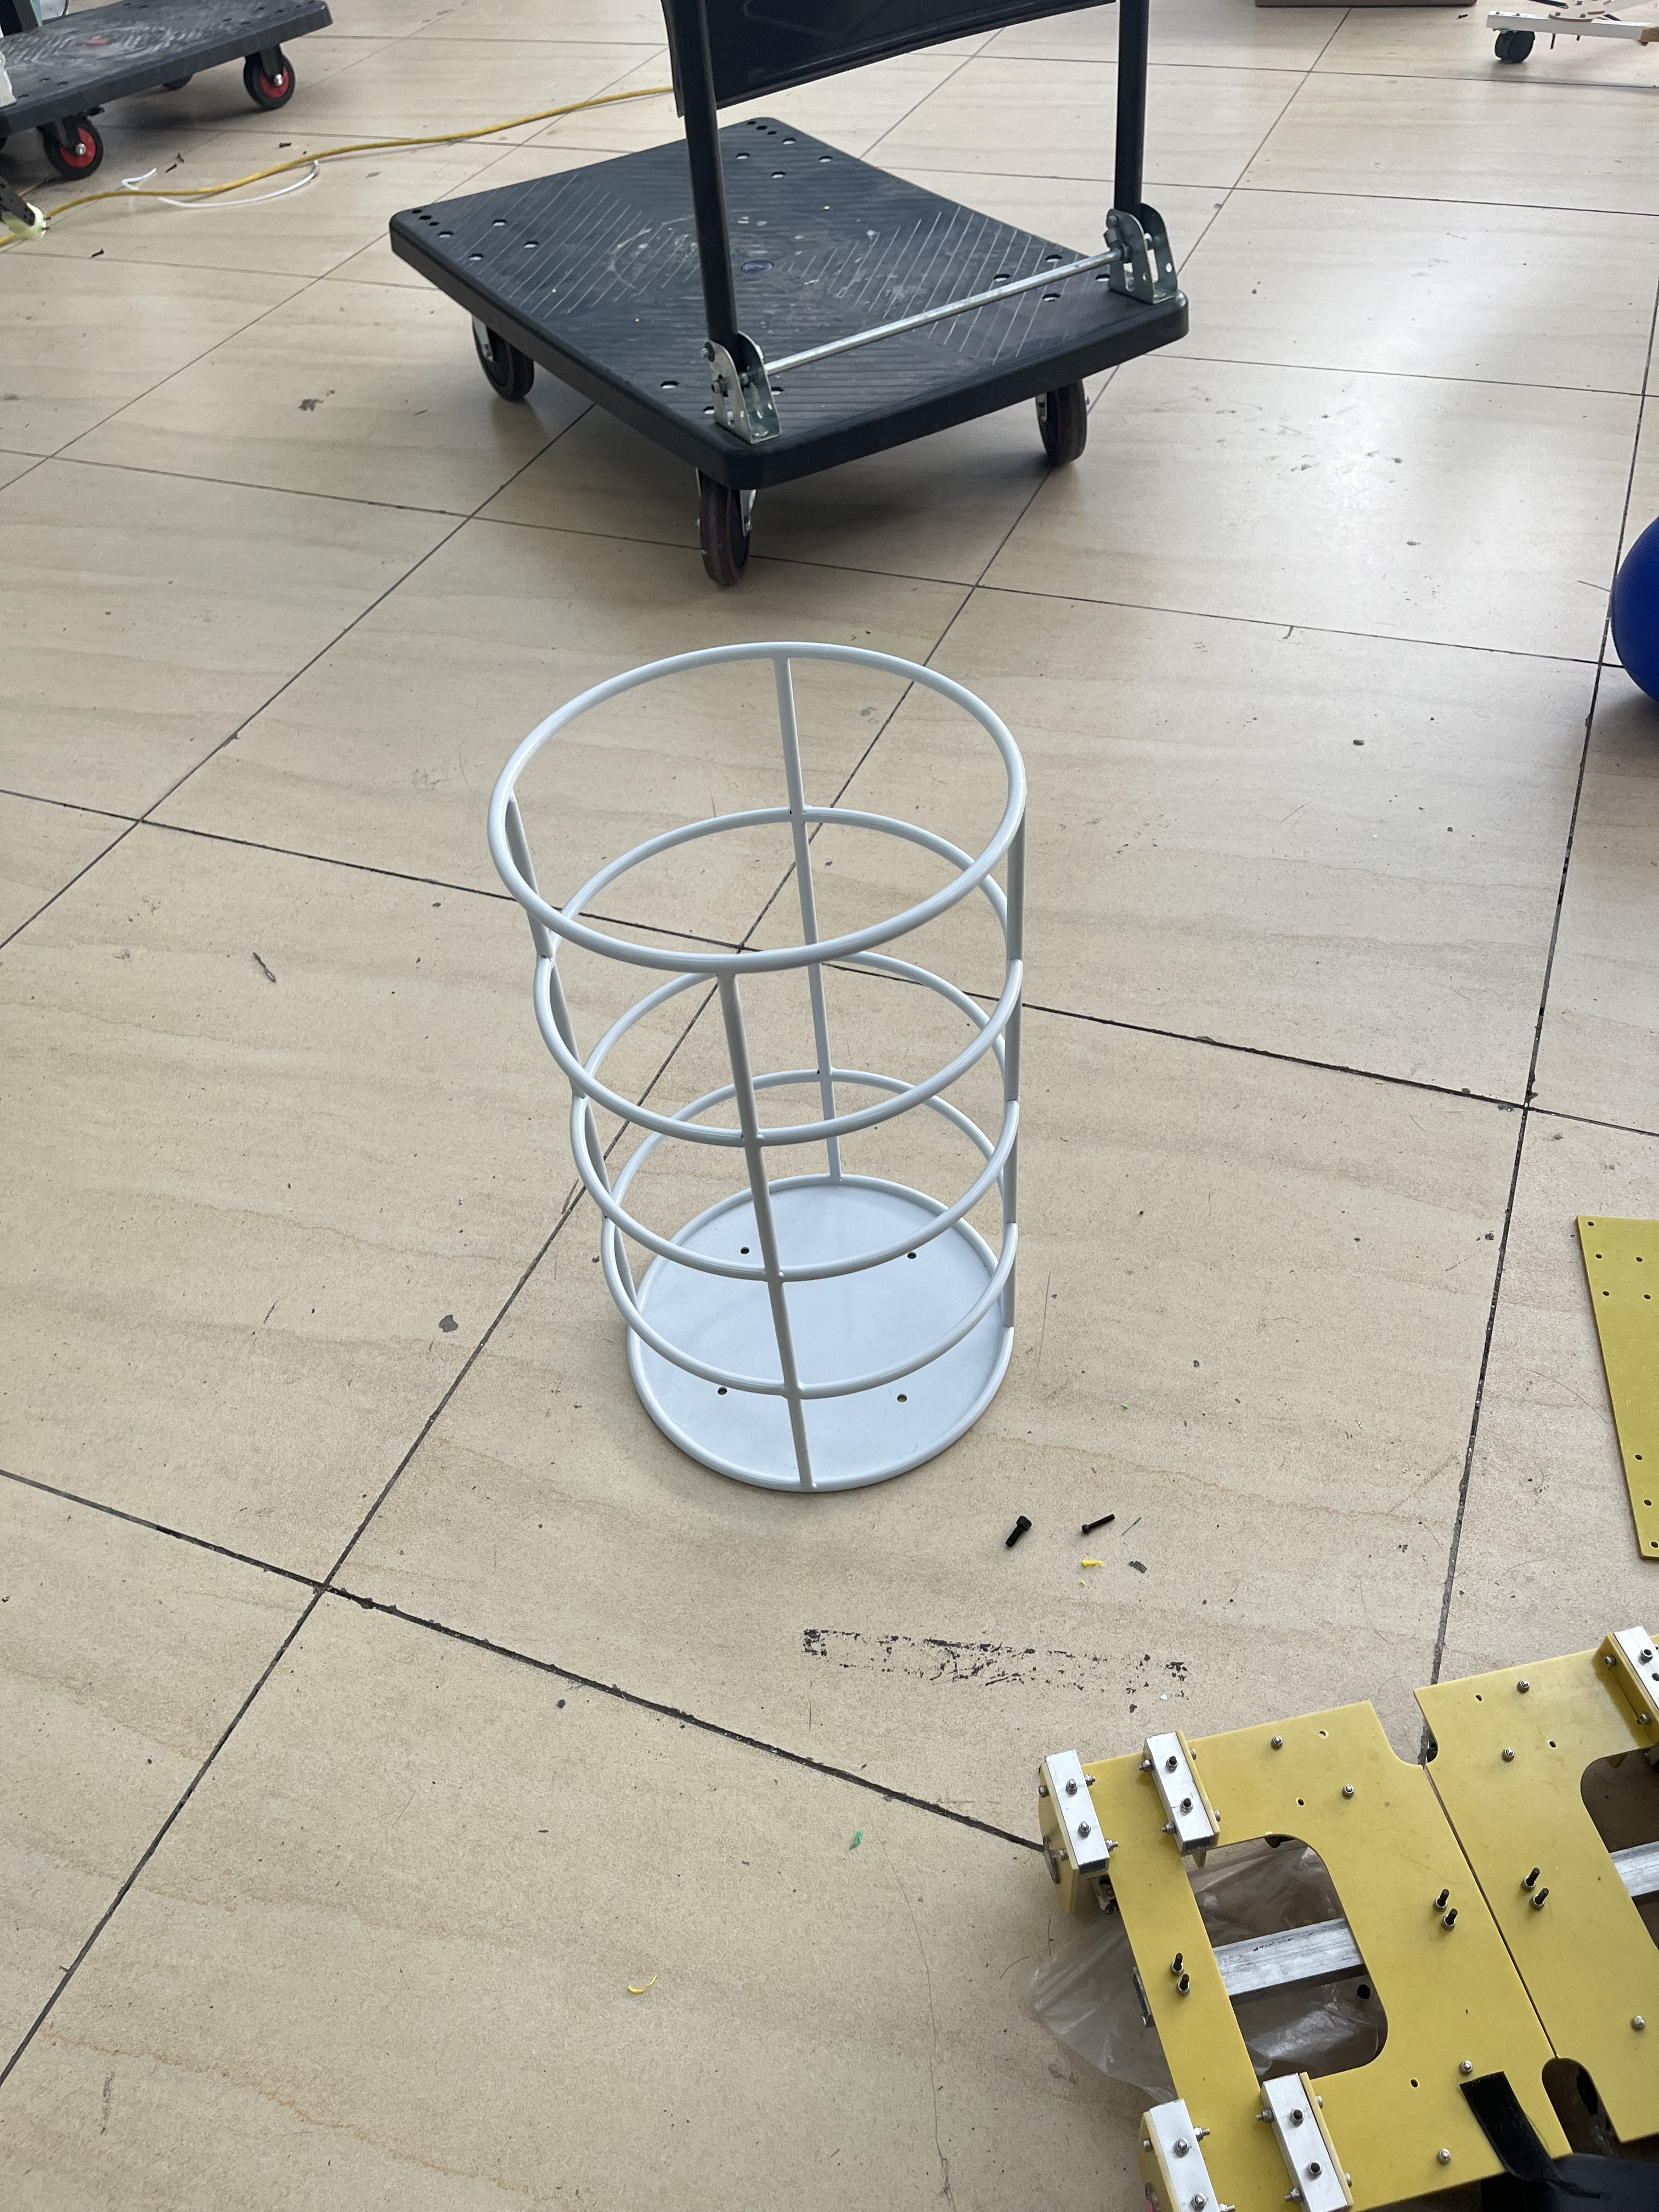blacket: (460, 639, 1046, 1531)
